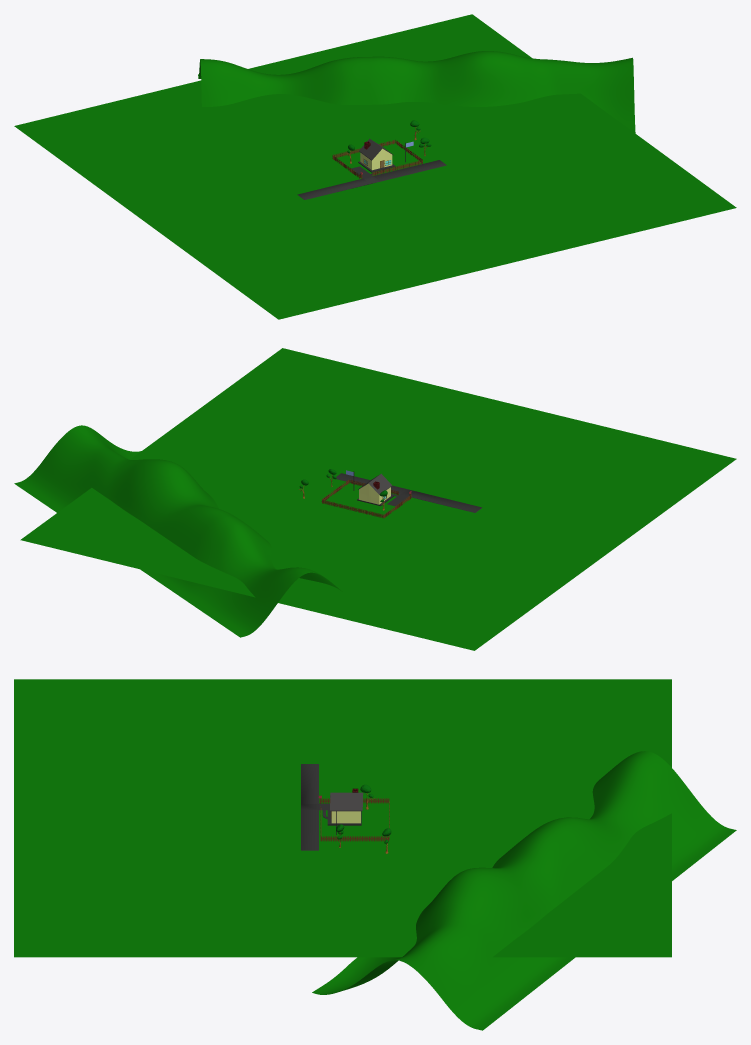
Rendered from house3.glb.
3 renders of one model, top to bottom at view 1: azimuth 30°, elevation 25°; view 2: azimuth 150°, elevation 25°; view 3: azimuth 270°, elevation 25°, orthographic. The views are drawn at different scales.
Visible parts, largest first — view 1: Plane, Plane.001, Plane.002; view 2: Plane, Plane.001, Plane.002; view 3: Plane, Plane.001, Plane.002, Cube.001.
Part boxes in pixels (x1,y1,x2,y2): Plane: (14,14,736,319); Plane.001: (198,51,635,133); Plane.002: (297,160,446,199); Plane: (20,348,736,650); Plane.001: (14,425,342,637); Plane.002: (336,473,482,512); Plane: (14,679,671,957); Plane.001: (312,751,736,1030); Plane.002: (301,764,329,850); Cube.001: (330,792,363,811).
Size of the model in its own units: 53.19 by 5.5 by 49.54.
